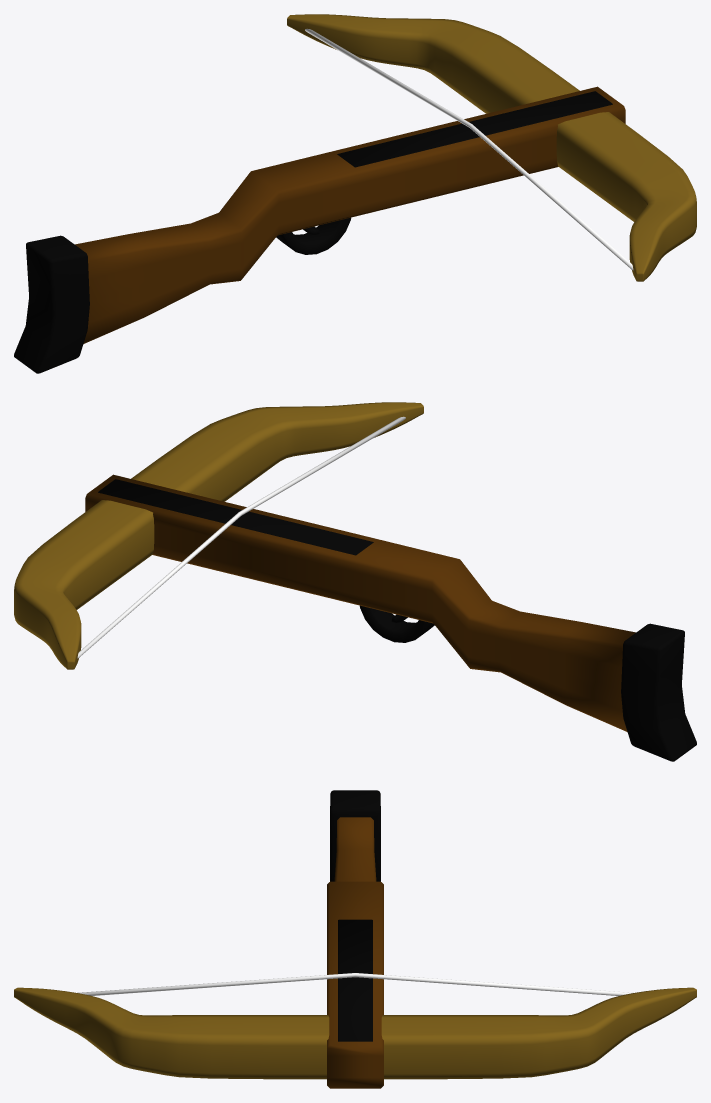
Rendered from CrossBow01.fbx.
3 renders of one model, top to bottom at view 1: azimuth 30°, elevation 25°; view 2: azimuth 150°, elevation 25°; view 3: azimuth 270°, elevation 25°, orthographic. The views are drawn at different scales.
Visible parts, largest first — view 1: CrossBow01, String_CrossBow01; view 2: CrossBow01, String_CrossBow01; view 3: CrossBow01, String_CrossBow01.
Boxes of the visible parts, bbox=[...] form: CrossBow01: bbox=[14, 14, 696, 373]; String_CrossBow01: bbox=[305, 28, 633, 270]; CrossBow01: bbox=[14, 402, 696, 761]; String_CrossBow01: bbox=[77, 416, 405, 658]; CrossBow01: bbox=[14, 790, 696, 1088]; String_CrossBow01: bbox=[77, 973, 633, 995].
Size of the model in its own units: 955 by 207 by 1000.
